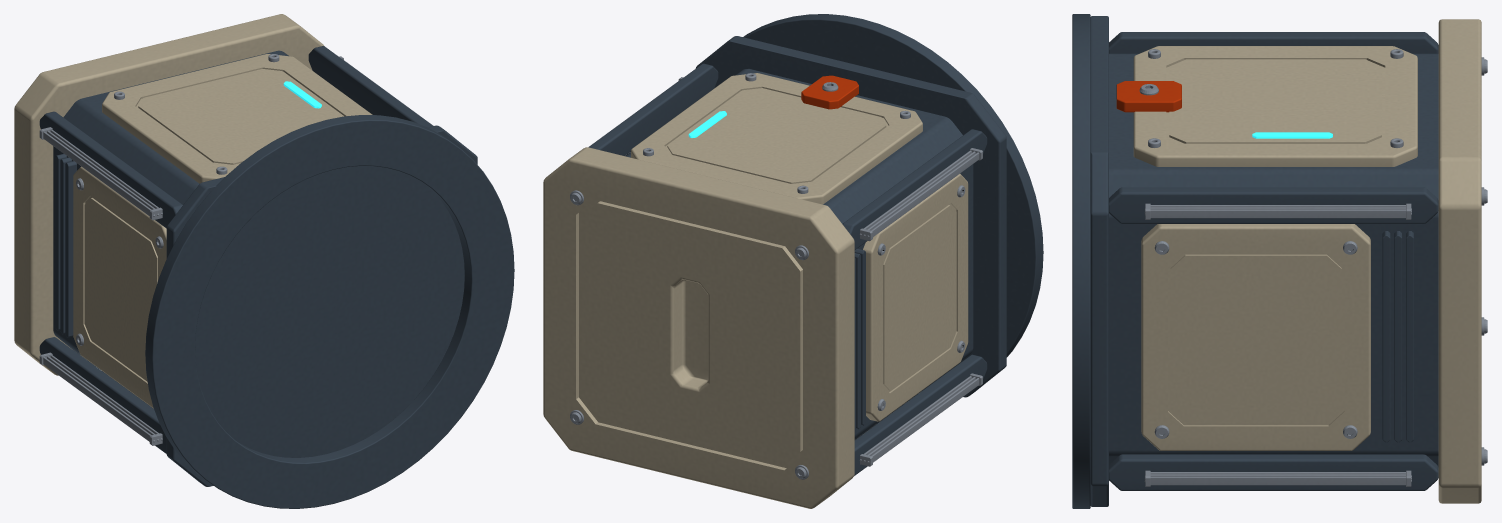
File: BasicComputeCore.fbx
The picture shows the model from 3 angles, left to right: view 1: azimuth 30°, elevation 25°; view 2: azimuth 150°, elevation 25°; view 3: azimuth 270°, elevation 25°; orthographic projection. The views are drawn at different scales.
Visible parts, largest first — view 1: flush_base_flange, adapter_WheeledCarrier_external_saddle, roof_armour, front_rear_service_panel.001, side_service_panel, sealed_core_chassis, corner_load_rib.003, corner_load_rib.001, corner_load_rib, upper_side_heat_fin, upper_side_heat_fin.001, upper_side_heat_fin.002 (+2 smaller); view 2: roof_armour, front_rear_service_panel.001, side_service_panel, flush_base_flange, adapter_WheeledCarrier_external_saddle, sealed_core_chassis, corner_load_rib.003, corner_load_rib.001, corner_load_rib, service_lock, corner_cooling_fin.005, corner_cooling_fin.002 (+2 smaller); view 3: side_service_panel.001, sealed_core_chassis, front_rear_service_panel.001, roof_armour, adapter_WheeledCarrier_external_saddle, flush_base_flange, corner_load_rib.003, corner_load_rib.002, corner_load_rib.001, corner_cooling_fin.011, corner_cooling_fin.008, upper_side_heat_fin.003 (+8 smaller).
Part boxes in pixels (x1,y1,x2,y2): flush_base_flange: (166,125,477,486); adapter_WheeledCarrier_external_saddle: (145,115,514,508); roof_armour: (14,14,323,375); front_rear_service_panel.001: (102,54,372,183); side_service_panel: (73,166,166,408); sealed_core_chassis: (53,50,288,408); corner_load_rib.003: (308,46,432,127); corner_load_rib.001: (39,111,182,228); corner_load_rib: (39,337,166,453); upper_side_heat_fin: (65,161,76,337); upper_side_heat_fin.001: (60,157,71,334); upper_side_heat_fin.002: (55,154,66,330); roof_armour: (543,147,854,508); front_rear_service_panel.001: (631,73,922,204); side_service_panel: (863,174,968,421); flush_base_flange: (695,36,1006,397); adapter_WheeledCarrier_external_saddle: (743,14,1043,357); sealed_core_chassis: (625,69,973,439); corner_load_rib.003: (589,63,718,155); corner_load_rib.001: (842,129,987,249); corner_load_rib: (854,354,987,475); service_lock: (801,75,858,109); corner_cooling_fin.005: (867,152,979,237); corner_cooling_fin.002: (867,378,979,462); side_service_panel.001: (1141,224,1370,450); sealed_core_chassis: (1109,53,1438,467); front_rear_service_panel.001: (1133,46,1417,166); roof_armour: (1438,19,1481,503); adapter_WheeledCarrier_external_saddle: (1072,14,1090,508); flush_base_flange: (1090,16,1108,506); corner_load_rib.003: (1109,187,1438,223); corner_load_rib.002: (1109,454,1438,490); corner_load_rib.001: (1109,32,1438,53); corner_cooling_fin.011: (1144,209,1411,218); corner_cooling_fin.008: (1144,476,1411,485); upper_side_heat_fin.003: (1382,231,1390,442).
Size of the model in its own units: 38 by 38 by 31.85.
